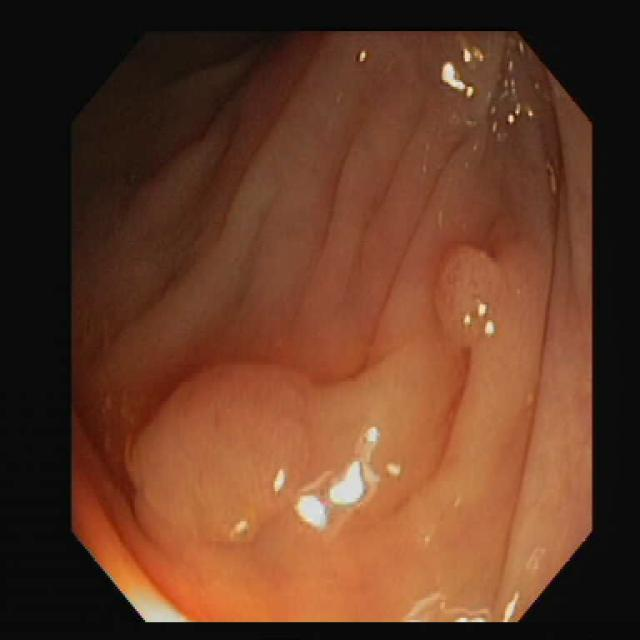tumor: (128, 364, 318, 544), (435, 244, 518, 349)
